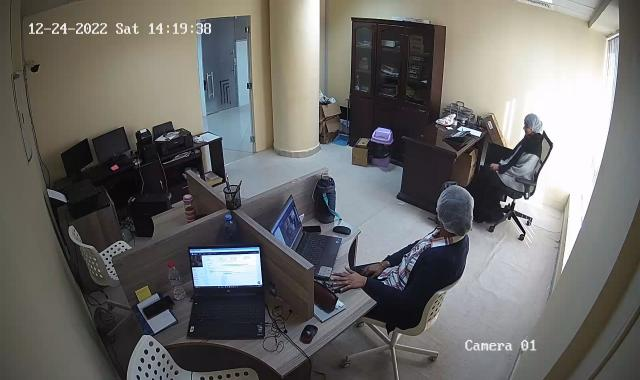hairnet: (439, 183, 472, 234), (523, 112, 545, 140)
